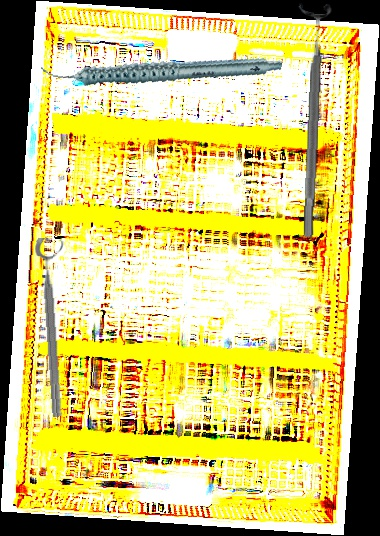Fixation Ring: (289, 2, 335, 239), (34, 236, 77, 418)
Handpiece: (39, 16, 283, 122)
